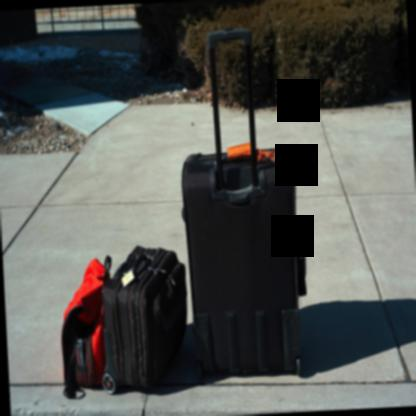backpack: (61, 254, 111, 399)
handbag: (61, 255, 107, 398)
suitcase: (178, 26, 306, 381), (101, 244, 188, 395)
